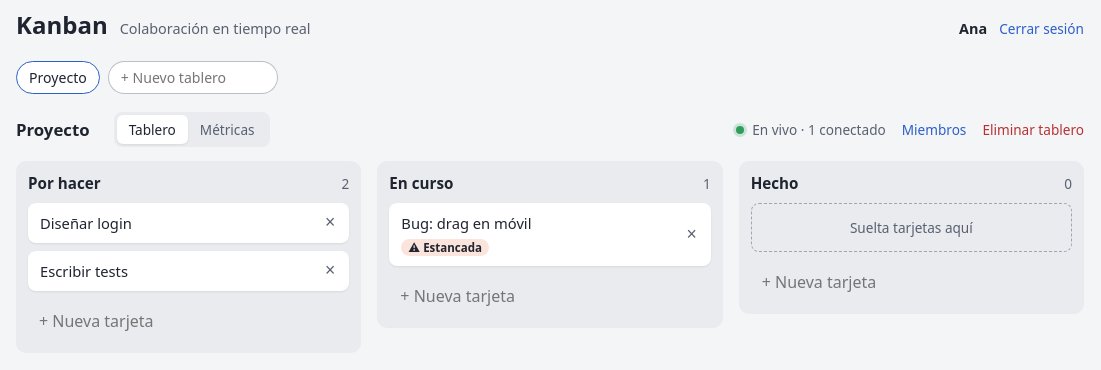
Test: tablero › crear un tablero lo selecciona
The width and height of the screenshot is (1101, 370).
Type "Nuevo" into the field named "Nombre del nuevo tablero". click: x=193, y=78
box: x1=108 y1=61 x2=278 y2=94
Then press Enter
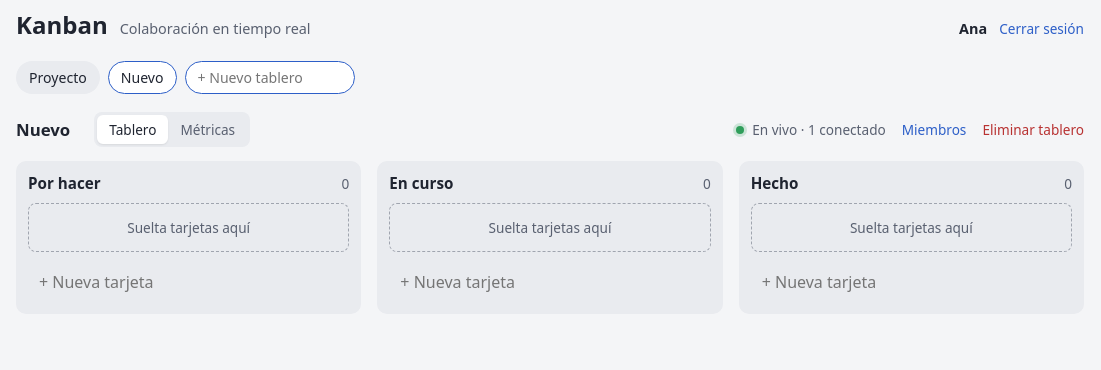
Result: the heading "Nuevo" is shown at x1=16 y1=118 x2=70 y2=141
